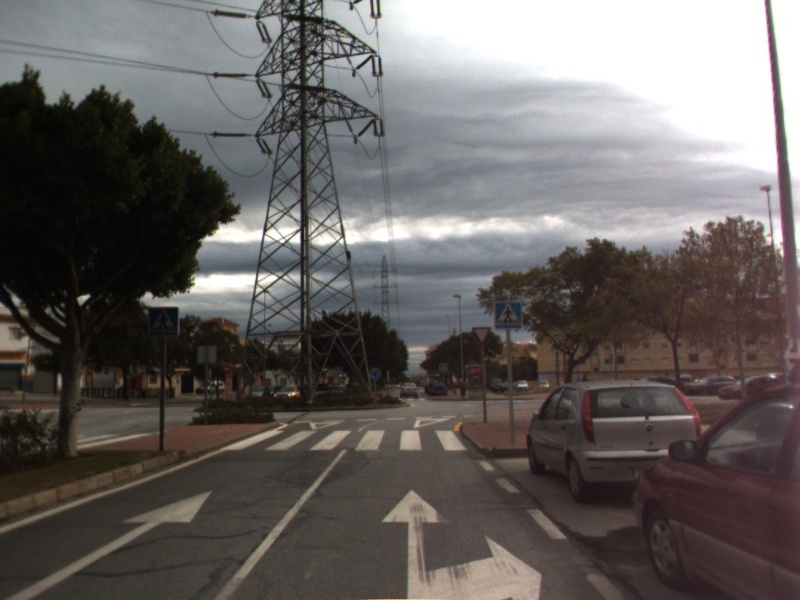STRAIGHT: (4, 487, 215, 600)
STRAIGHT_RIGHT: (378, 486, 545, 600)
